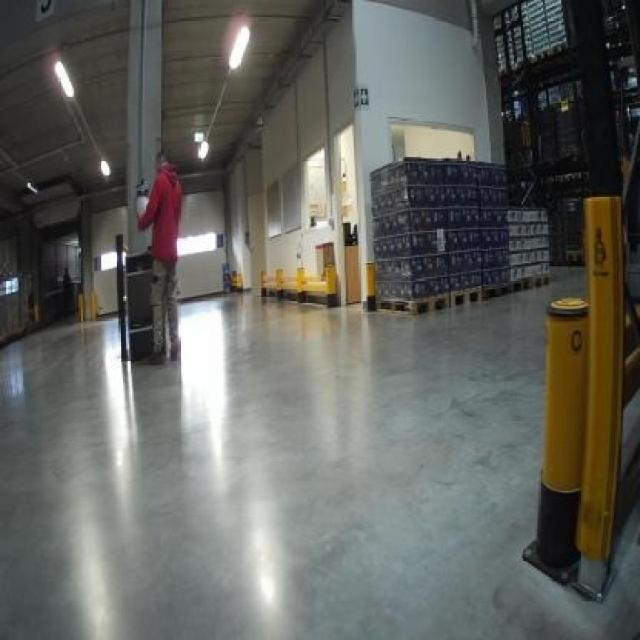floor: (0, 266, 637, 637)
pallets: (369, 157, 546, 309)
